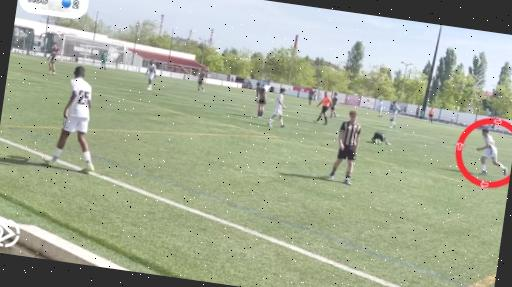highlight_overlay: (450, 110, 512, 191)
